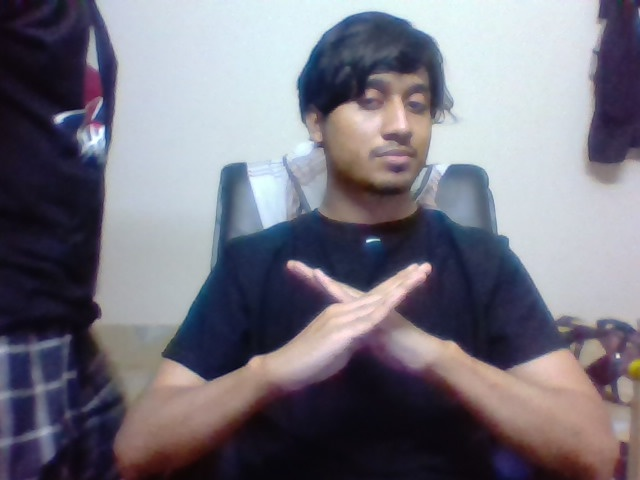X: (254, 247, 473, 380)
